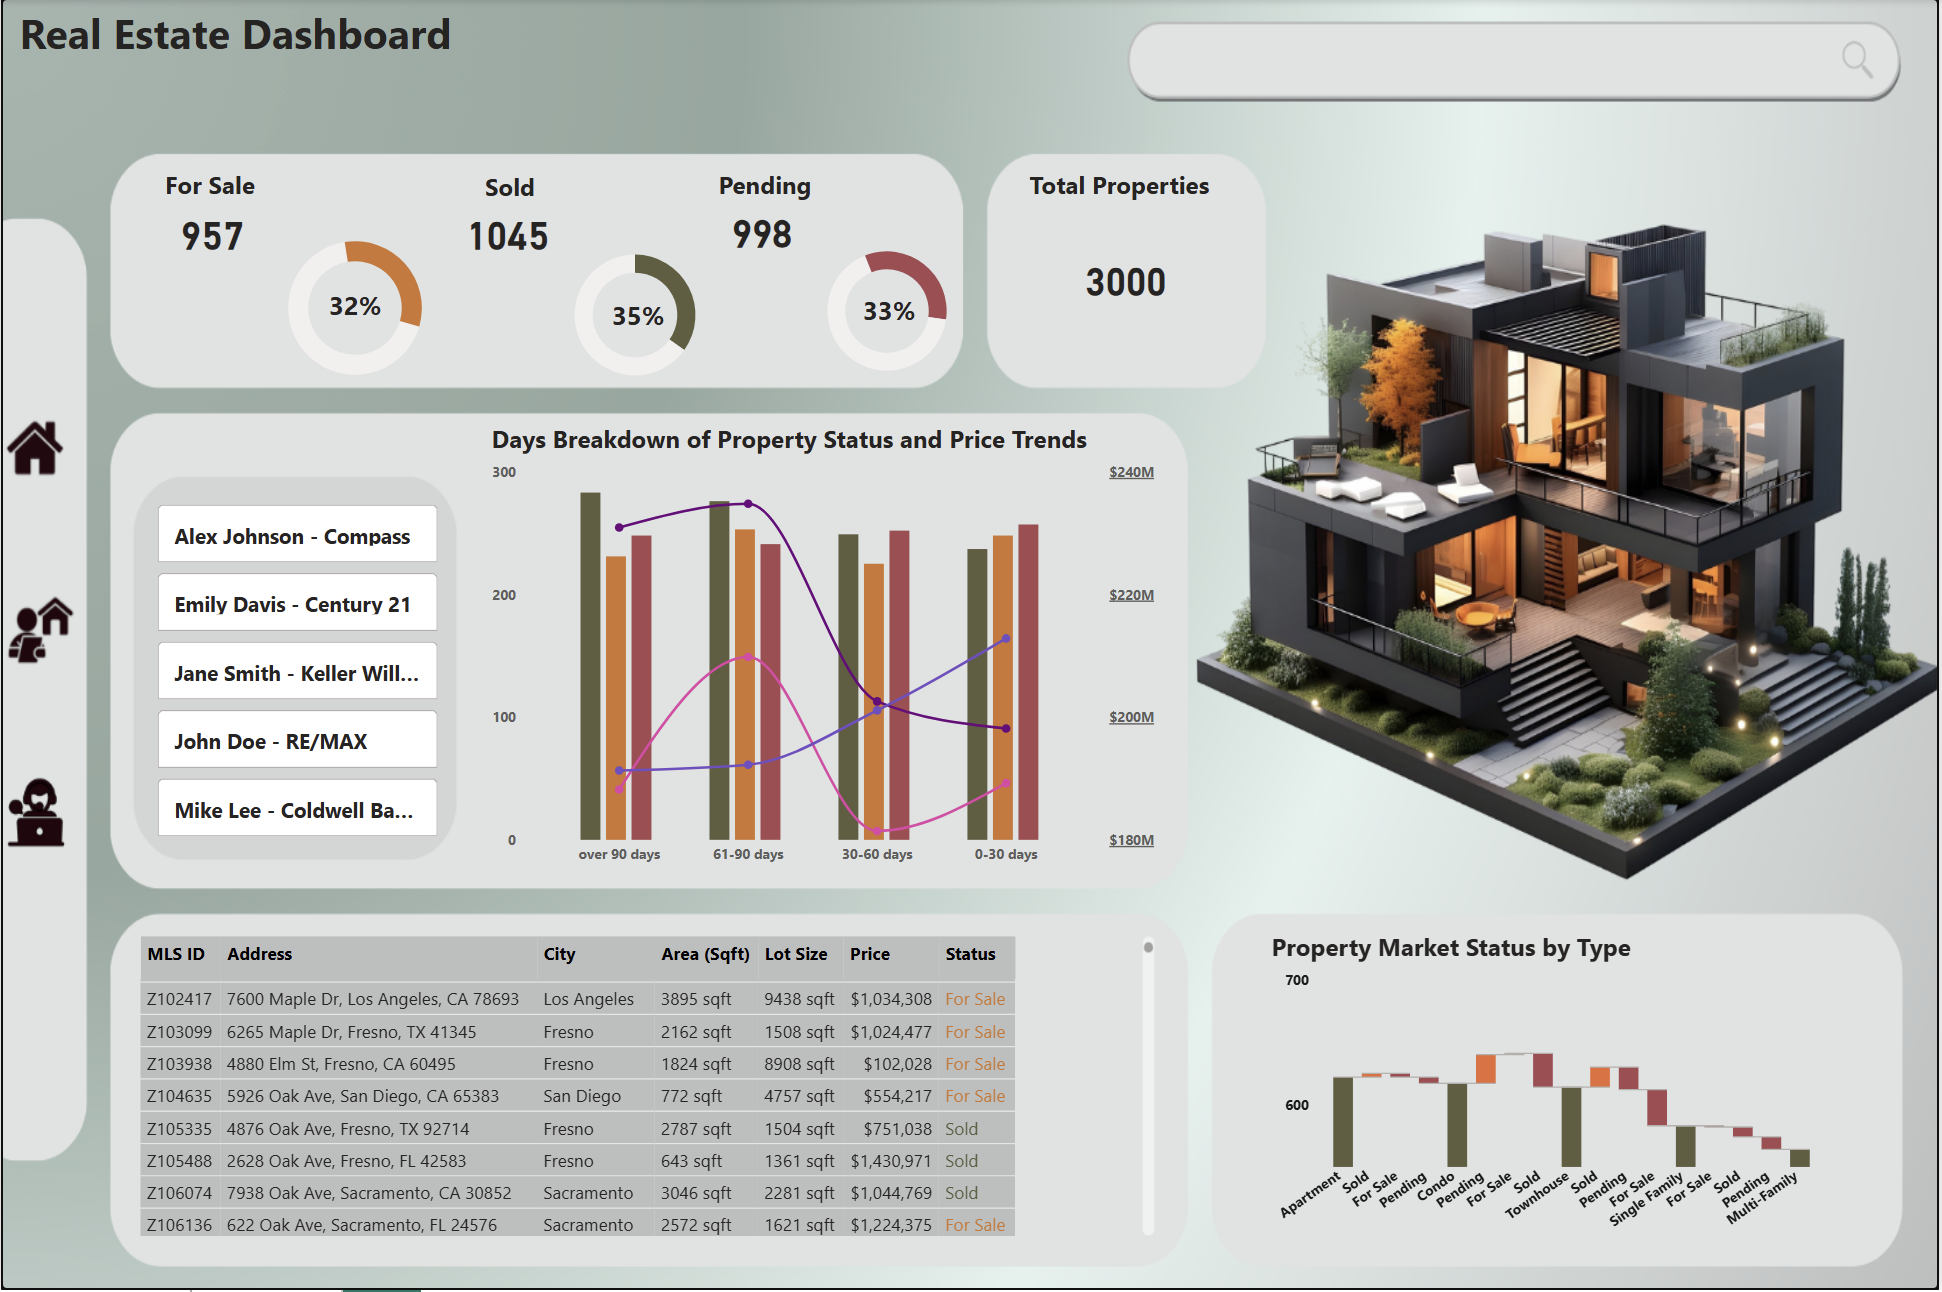

This screenshot's page, from the dashboard's own definition file:
{"tool":"powerbi","page":{"name":"Page 1","canvas":[1500,1000],"ordinal":0},"visuals":[{"type":"textbox","box":[9.9,0,392.9,61.5],"z":0},{"type":"card","fields":{"Values":["RealEstate_Dataset.Total Properties"]},"box":[794.1,142.4,153.3,150.2],"z":1000},{"type":"card","fields":{"Values":["RealEstate_Dataset.Properties Sold"]},"box":[294.1,106.8,196.6,150.2],"z":2000},{"type":"card","fields":{"Values":["RealEstate_Dataset.Properties for sale"]},"box":[65,106.8,196.6,150.2],"z":3000},{"type":"card","fields":{"Values":["RealEstate_Dataset.Properties Pending"]},"box":[490.7,105.3,196.6,150.2],"z":4000},{"type":"card","fields":{"Values":["RealEstate_Dataset.% of Properties Sold"]},"box":[438.1,171.8,109.9,150.2],"z":5000},{"type":"card","fields":{"Values":["RealEstate_Dataset.% Properties for sale"]},"box":[204.3,164.1,139.3,150.2],"z":6000},{"type":"card","fields":{"Values":["RealEstate_Dataset.% Properties Pending"]},"box":[580.5,165.6,213.6,154.8],"z":7000},{"type":"donutChart","fields":{"Category":["RealEstate_Dataset.Status"],"Y":["CountNonNull(RealEstate_Dataset.Status)"]},"box":[427.2,170.3,126.9,150.2],"z":8000},{"type":"donutChart","fields":{"Category":["RealEstate_Dataset.Status"],"Y":["CountNonNull(RealEstate_Dataset.Status)"]},"box":[204.3,165.6,139.3,148.6],"z":9000},{"type":"donutChart","fields":{"Category":["RealEstate_Dataset.Status"],"Y":["CountNonNull(RealEstate_Dataset.Status)"]},"box":[620.7,179.6,130,125.4],"z":10000},{"type":"textbox","box":[791,126.9,156.3,182.7],"z":11000},{"type":"textbox","box":[329.7,128.5,128.5,512.4],"z":12000},{"type":"textbox","box":[521.7,126.9,139.3,512.4],"z":13000},{"type":"textbox","box":[92.9,126.9,137.8,512.4],"z":14000},{"type":"lineClusteredColumnComboChart","title":"Days Breakdown of Property Status and Price Trends","fields":{"Y":["RealEstate_Dataset.Properties Sold","RealEstate_Dataset.Properties for sale","RealEstate_Dataset.Properties Pending"],"Category":["RealEstate_Dataset.Days_on_Market_Categories"],"Y2":["RealEstate_Dataset.Total Sold Price","RealEstate_Dataset.Total Sale Price","RealEstate_Dataset.Total Pending Price"]},"box":[374.6,328.2,523.2,351.4],"z":15000},{"type":"tableEx","fields":{"Values":["RealEstate_Dataset.MLS ID","RealEstate_Dataset.Address","RealEstate_Dataset.City","RealEstate_Dataset.Area (Sqft)","RealEstate_Dataset.Lot Size","RealEstate_Dataset.Price","RealEstate_Dataset.Status"]},"box":[102.2,721.4,795.7,241.5],"z":16000},{"type":"waterfallChart","title":"Property Market Status by Type","fields":{"Category":["RealEstate_Dataset.Property Type"],"Breakdown":["RealEstate_Dataset.Status"],"Y":["CountNonNull(RealEstate_Dataset.Status)"]},"box":[978.1,721,435.7,241.4],"z":17000},{"type":"advancedSlicerVisual","fields":{"Values":["RealEstate_Dataset.Listing Agent"]},"box":[116.1,387,227.6,269.3],"z":18000}]}

Visuals, with their boxes in screenshot pixels (x1, y1, x2, y2), scaled from the page's 1500x1000 canvas onto the 1942x1292 screenshot:
textbox: (13,0,521,79)
card - RealEstate_Dataset.Total Properties: (1028,184,1227,378)
card - RealEstate_Dataset.Properties Sold: (381,138,635,332)
card - RealEstate_Dataset.Properties for sale: (84,138,339,332)
card - RealEstate_Dataset.Properties Pending: (635,136,890,330)
card - RealEstate_Dataset.% of Properties Sold: (567,222,709,416)
card - RealEstate_Dataset.% Properties for sale: (265,212,445,406)
card - RealEstate_Dataset.% Properties Pending: (752,214,1028,414)
donutChart - RealEstate_Dataset.Status x CountNonNull(RealEstate_Dataset.Status): (553,220,717,414)
donutChart - RealEstate_Dataset.Status x CountNonNull(RealEstate_Dataset.Status): (265,214,445,406)
donutChart - RealEstate_Dataset.Status x CountNonNull(RealEstate_Dataset.Status): (804,232,972,394)
textbox: (1024,164,1226,400)
textbox: (427,166,593,828)
textbox: (675,164,856,826)
textbox: (120,164,299,826)
"Days Breakdown of Property Status and Price Trends" lineClusteredColumnComboChart: (485,424,1162,878)
tableEx - RealEstate_Dataset.MLS ID x RealEstate_Dataset.Address: (132,932,1162,1244)
"Property Market Status by Type" waterfallChart: (1266,932,1830,1243)
advancedSlicerVisual - RealEstate_Dataset.Listing Agent: (150,500,445,848)
